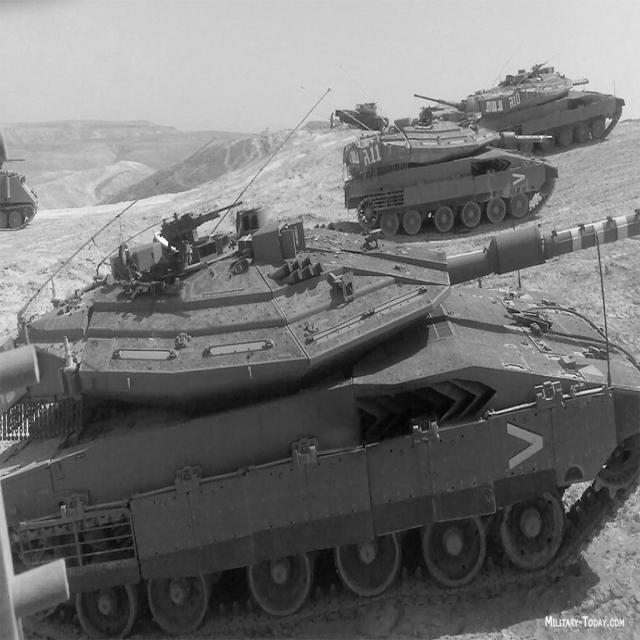Tank: (7, 191, 640, 632), (334, 124, 564, 236), (428, 58, 628, 148)
